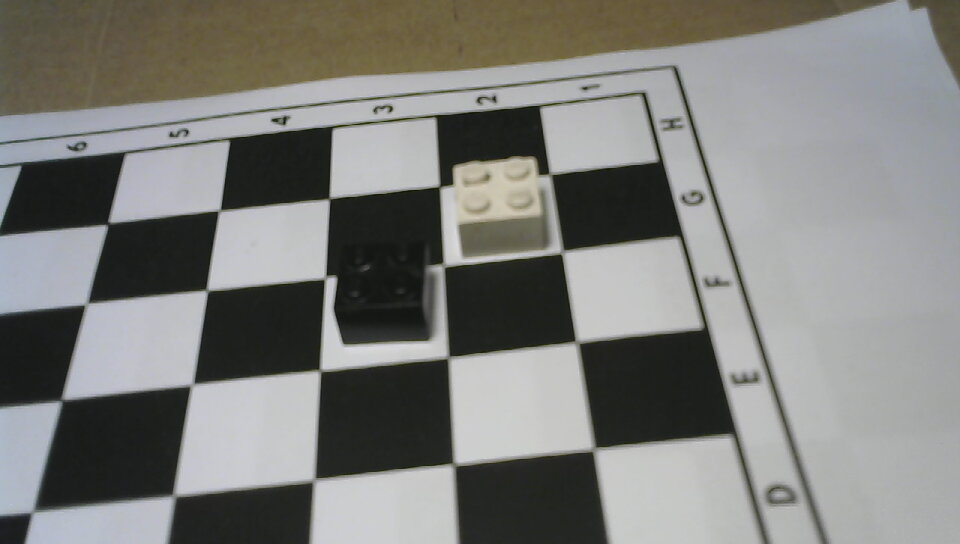wp: (446, 150, 553, 263)
